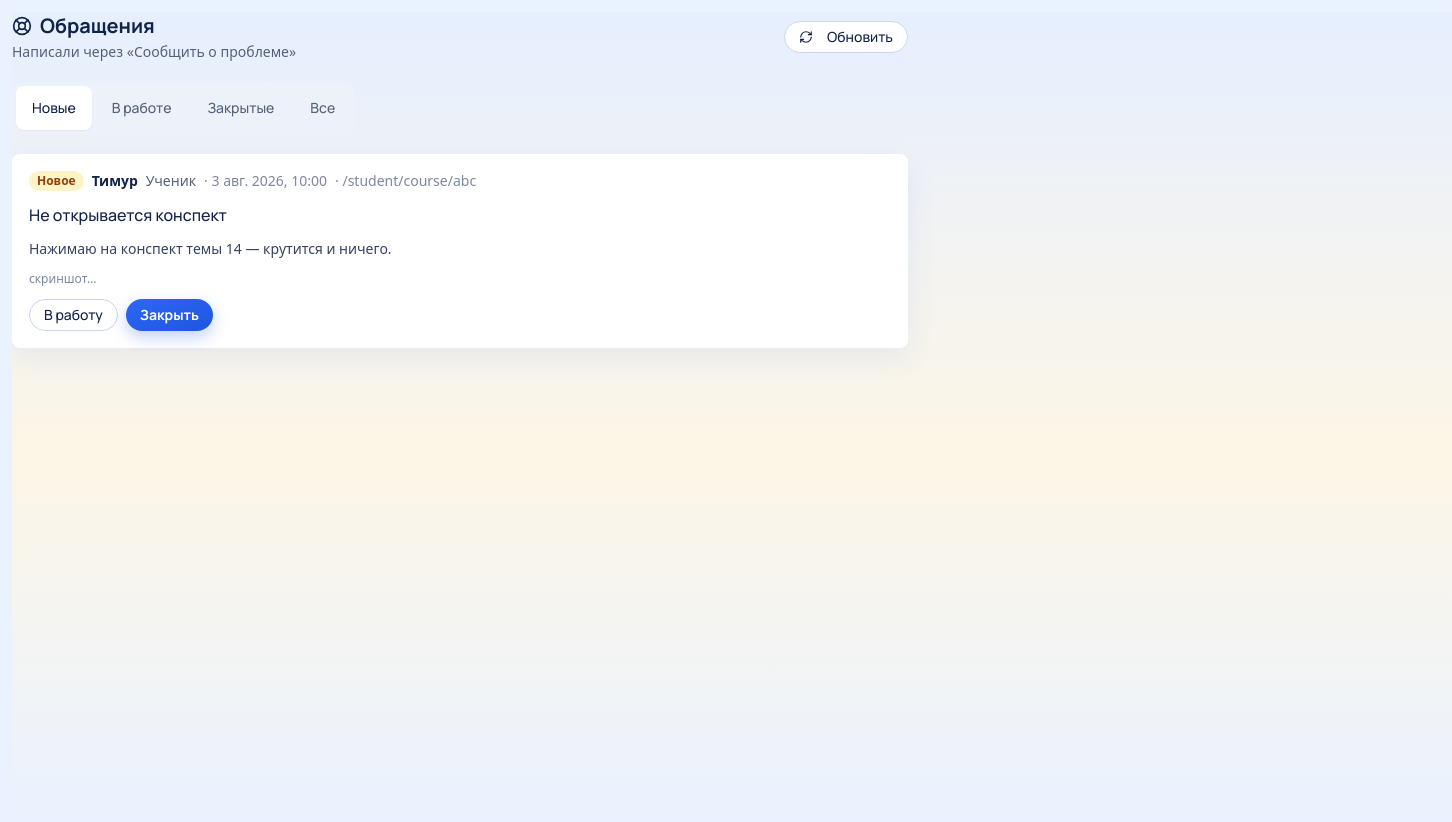
Test: экран обращений › «В работу» пишет статус в базу и убирает строку из списка новых
This screenshot has width=1452, height=822.
Click the button "В работу" at (73, 315), box x1=29 y1=299 x2=118 y2=331
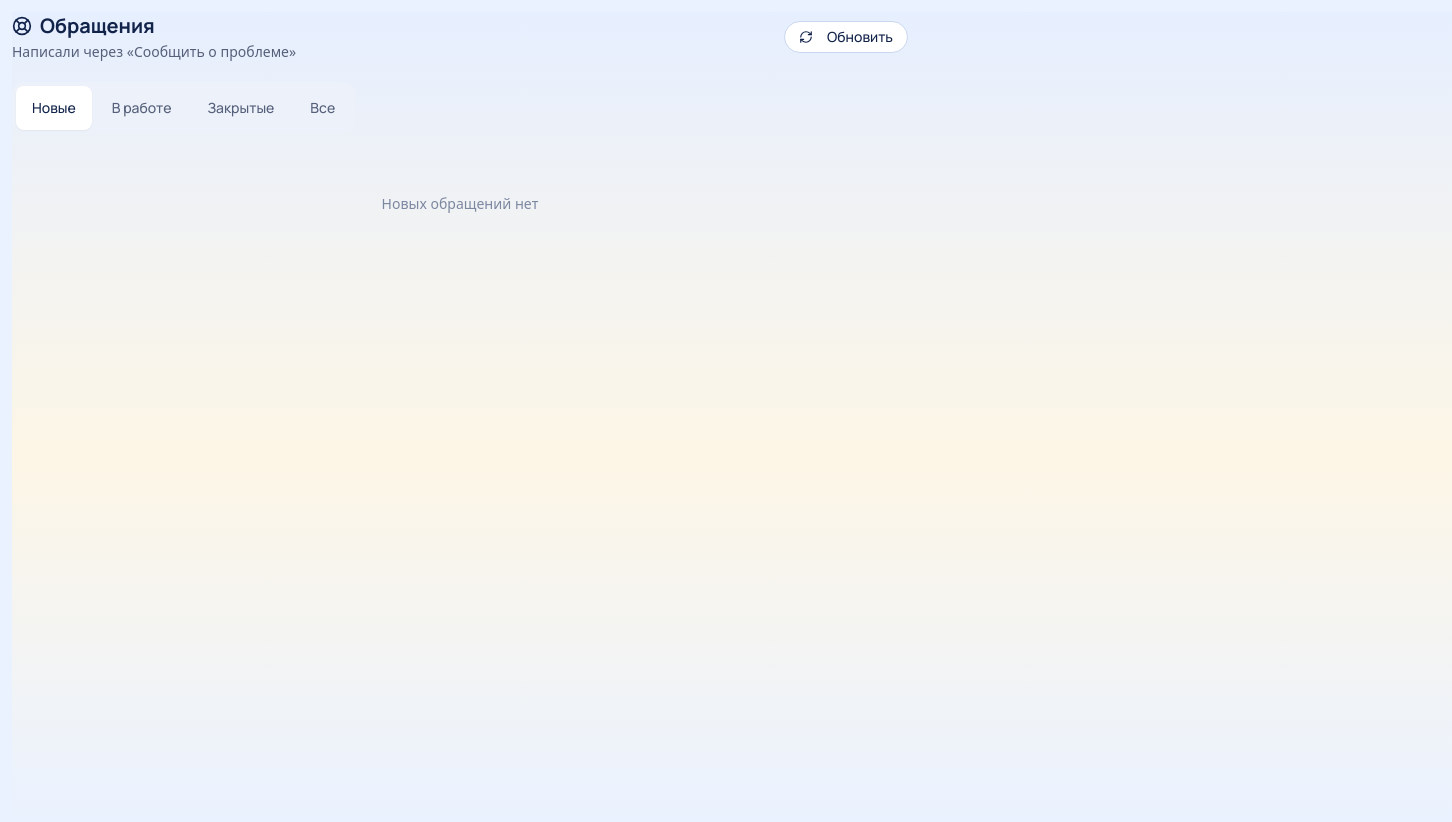
Check: the text "Не открывается конспект" is gone
Check: the text "Новых обращений нет" is shown, box x1=382 y1=194 x2=538 y2=213
